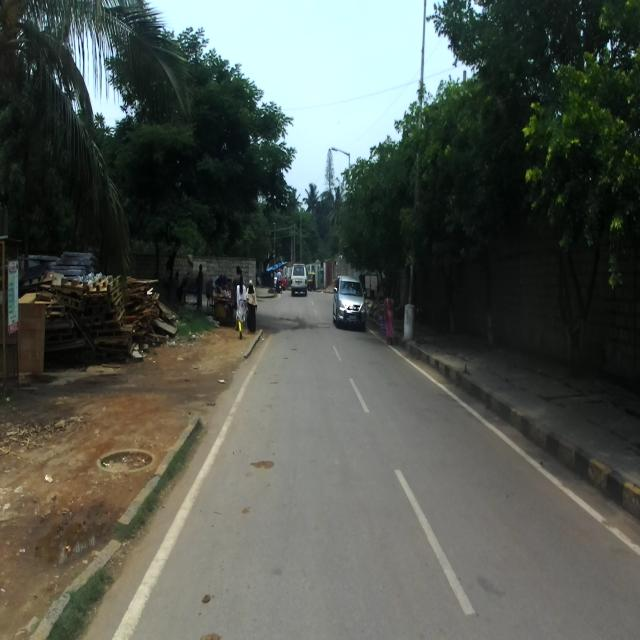barrier ahead at: (55, 263, 177, 362)
car ahead at: (333, 267, 369, 331)
person ahead at: (232, 269, 252, 344)
